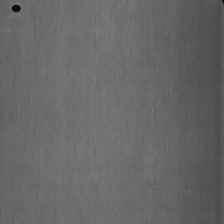punching_hole: (10, 3, 22, 14)
